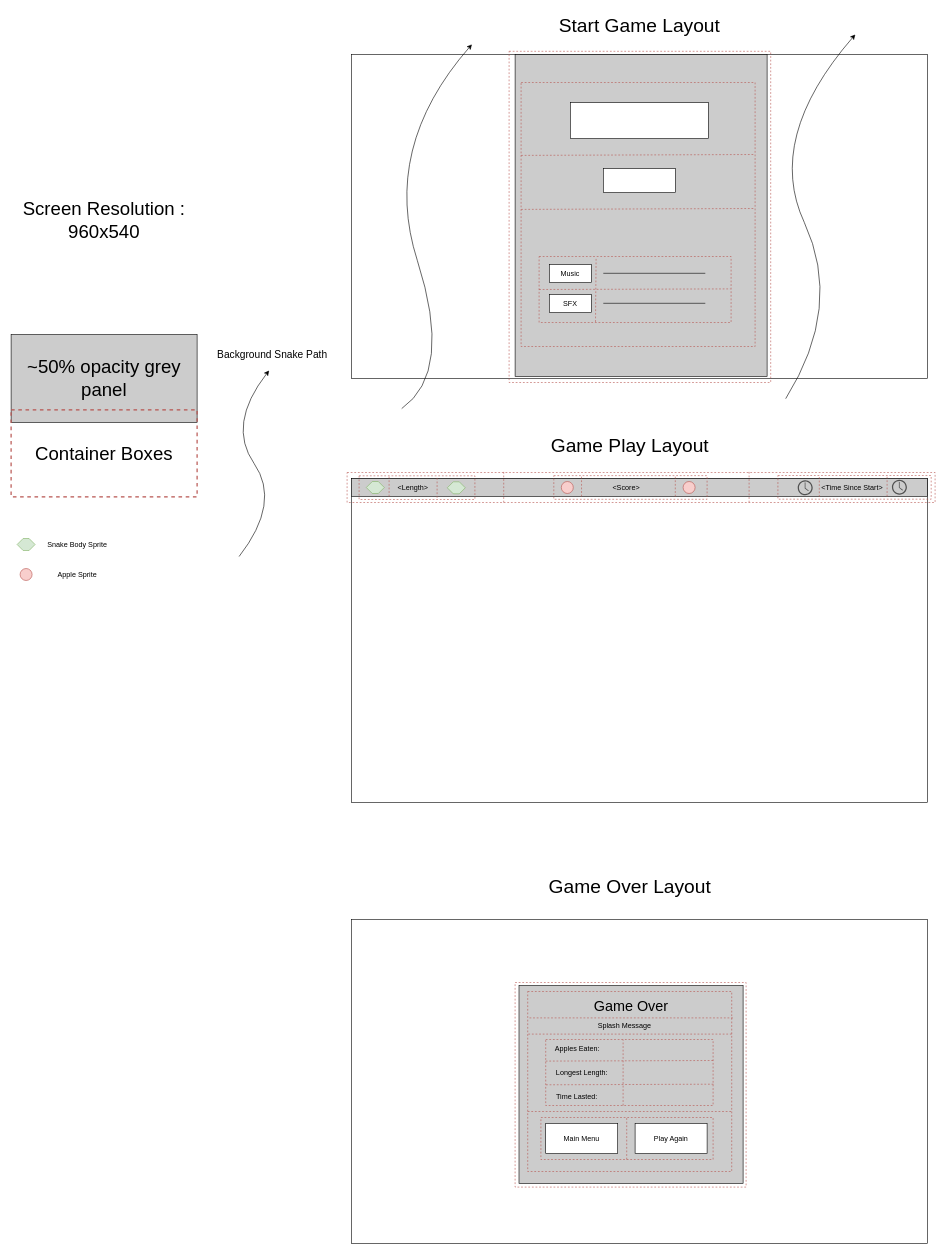
This 946x1254 diagram has some shape labels left out. Each missing label, with the centre of its shape:
SNEK: (639,120)
Start Game: (639,180)
